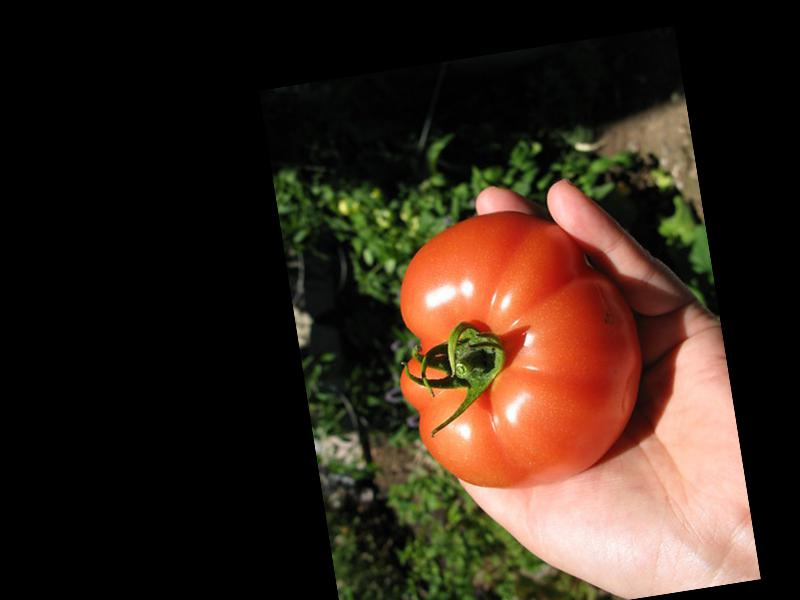Tomato: (376, 193, 654, 501)
